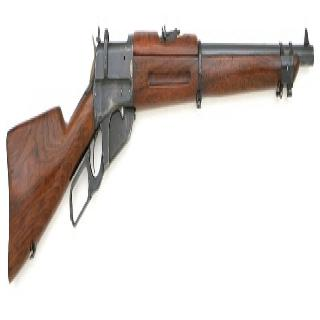gun: (4, 11, 316, 294)
